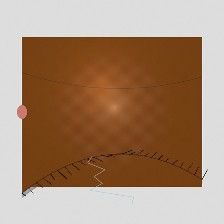foreign_body_visible: (137, 88, 169, 114)
